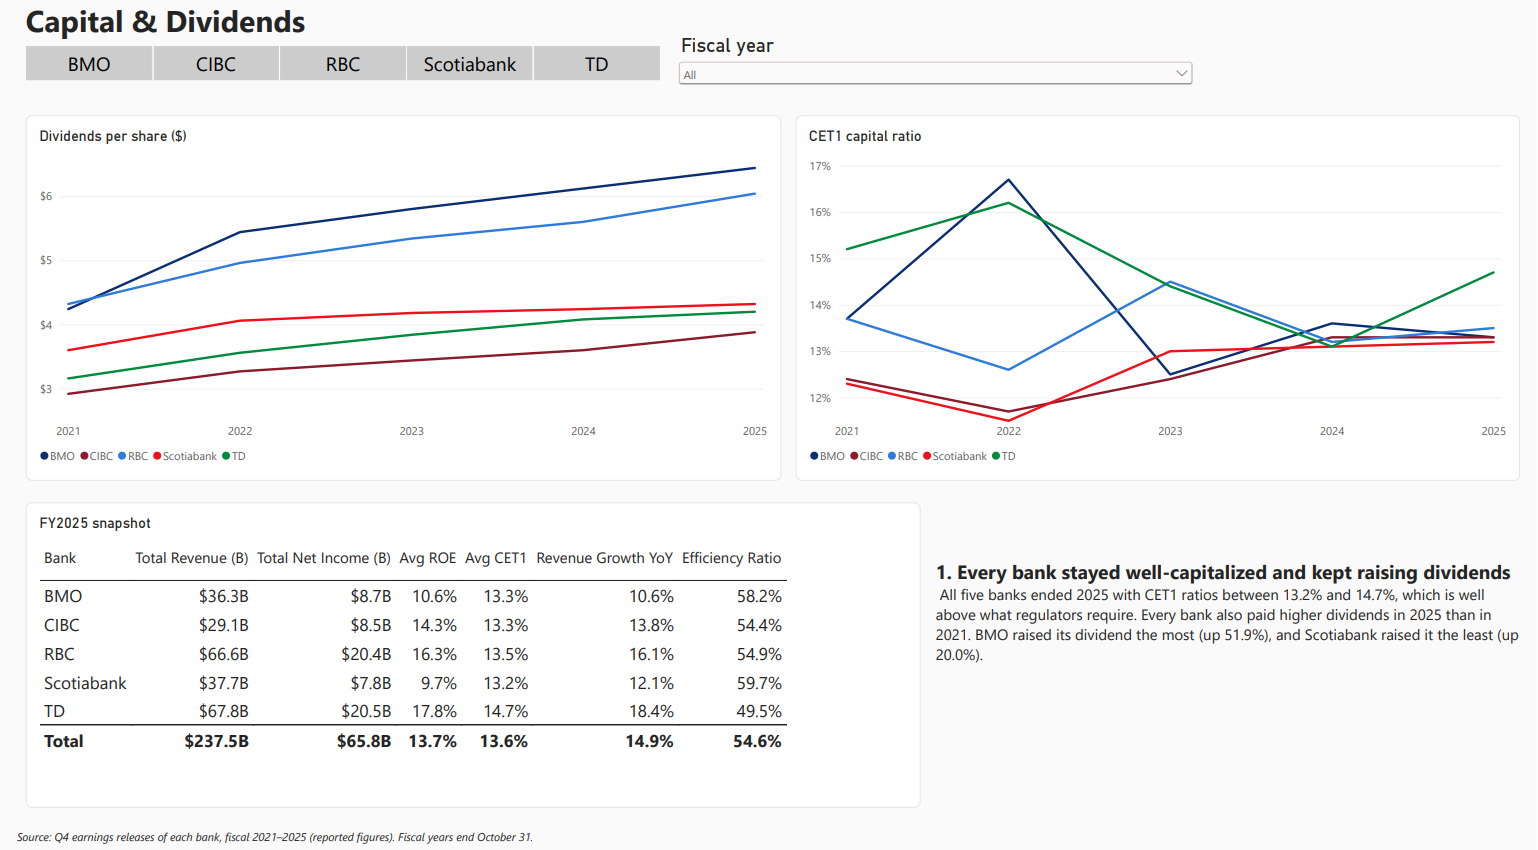

Layout of this report page (visuals, bound fields, positions):
{"tool":"powerbi","page":{"name":"Capital & Dividends","canvas":[1920,1080],"ordinal":2},"visuals":[{"type":"tableEx","title":"FY2025 snapshot","fields":{"Values":["BankData.Bank","BankData.Revenue (B)","BankData.Net Income (B)","BankData.Avg ROE","BankData.Avg CET1","BankData.Revenue Growth YoY","BankData.Efficiency Ratio"]},"box":[31.9,627.8,1118.6,381.7],"z":0},{"type":"lineChart","title":"Dividends per share ($)","fields":{"Category":["BankData.FiscalYear"],"Series":["BankData.Bank"],"Y":["BankData.Avg Dividend per Share"]},"box":[31.9,143.6,944.3,457.5],"z":1000},{"type":"lineChart","title":"CET1 capital ratio","fields":{"Category":["BankData.FiscalYear"],"Series":["BankData.Bank"],"Y":["BankData.Avg CET1"]},"box":[993.5,143.6,905.8,457.5],"z":2000},{"type":"slicer","fields":{"Values":["BankData.FiscalYear"]},"box":[843.3,42.6,651.7,70.5],"z":3000},{"type":"slicer","fields":{"Values":["BankData.Bank"]},"box":[12,55.9,831.3,43.9],"z":4000},{"type":"textbox","box":[21.3,1036.1,675.7,29.3],"z":4001},{"type":"textbox","box":[31.9,0,1888.7,55.9],"z":4002},{"type":"textbox","box":[1169.1,698.3,731.5,311.2],"z":4003}]}

Visuals, with their boxes in screenshot pixels (x1, y1, x2, y2), scaled from the page's 1920x1080 canvas onto the 1538x850 screenshot:
"FY2025 snapshot" tableEx: <bbox>26, 494, 922, 795</bbox>
"Dividends per share ($)" lineChart: <bbox>26, 113, 782, 473</bbox>
"CET1 capital ratio" lineChart: <bbox>796, 113, 1521, 473</bbox>
slicer - BankData.FiscalYear: <bbox>676, 34, 1198, 89</bbox>
slicer - BankData.Bank: <bbox>10, 44, 676, 79</bbox>
textbox: <bbox>17, 815, 558, 839</bbox>
textbox: <bbox>26, 0, 1537, 44</bbox>
textbox: <bbox>936, 550, 1522, 795</bbox>
